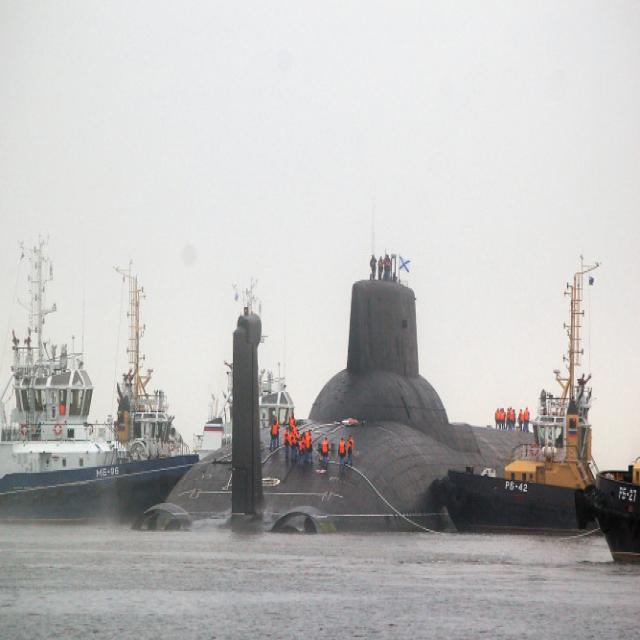submarine: (143, 276, 549, 527)
